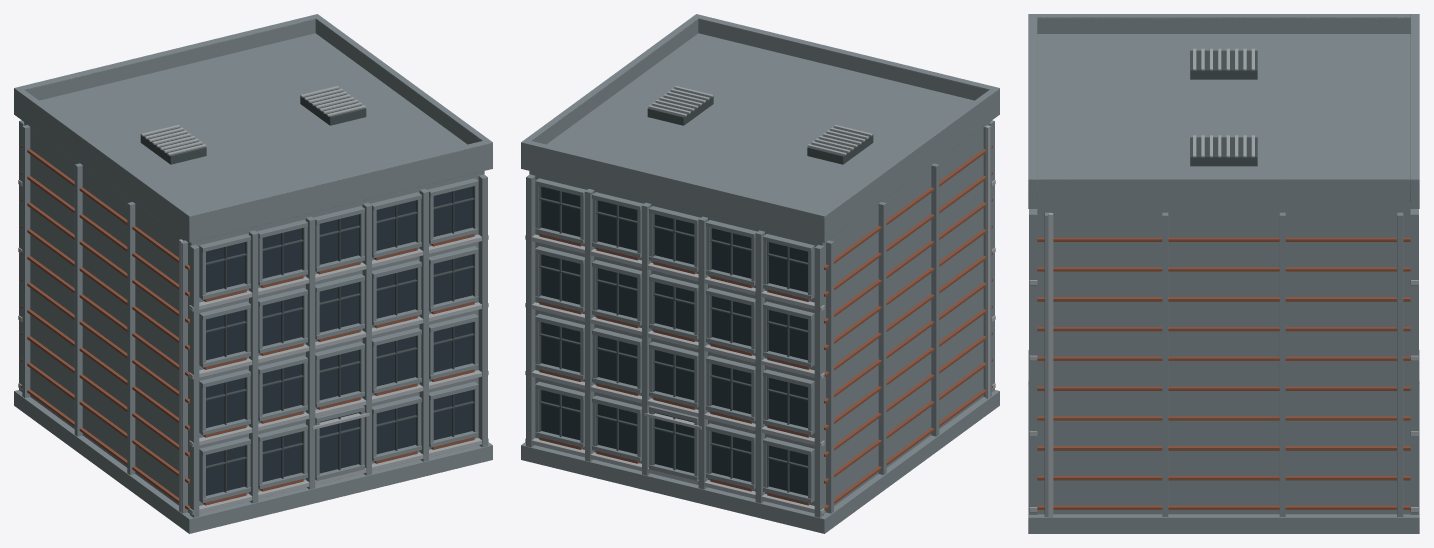
File: SM_StreetBlock_03.fbx
3 views of the same model, side by side, from view 1: azimuth 30°, elevation 25°; view 2: azimuth 150°, elevation 25°; view 3: azimuth 270°, elevation 25° (orthographic). The views are drawn at different scales.
Parts seen in each view (by area): view 1: SM_StreetBlock_03; view 2: SM_StreetBlock_03; view 3: SM_StreetBlock_03.
Part boxes in pixels (x1,y1,x2,y2): SM_StreetBlock_03: (14, 14, 492, 533); SM_StreetBlock_03: (521, 14, 999, 533); SM_StreetBlock_03: (1028, 14, 1419, 533).
Size of the model in its own units: 100 by 100 by 100.
